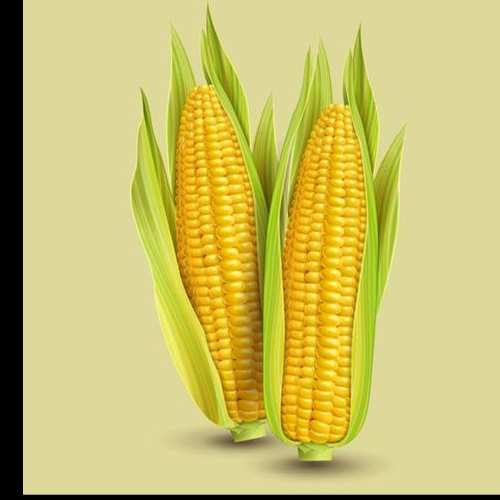corn: (161, 45, 281, 446), (266, 69, 381, 458)
